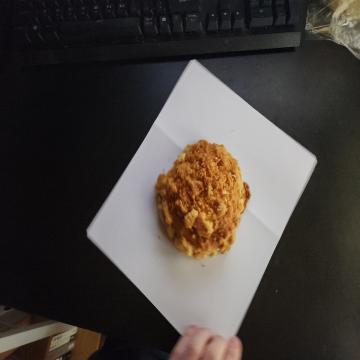soboru_bread: (155, 140, 252, 266)
